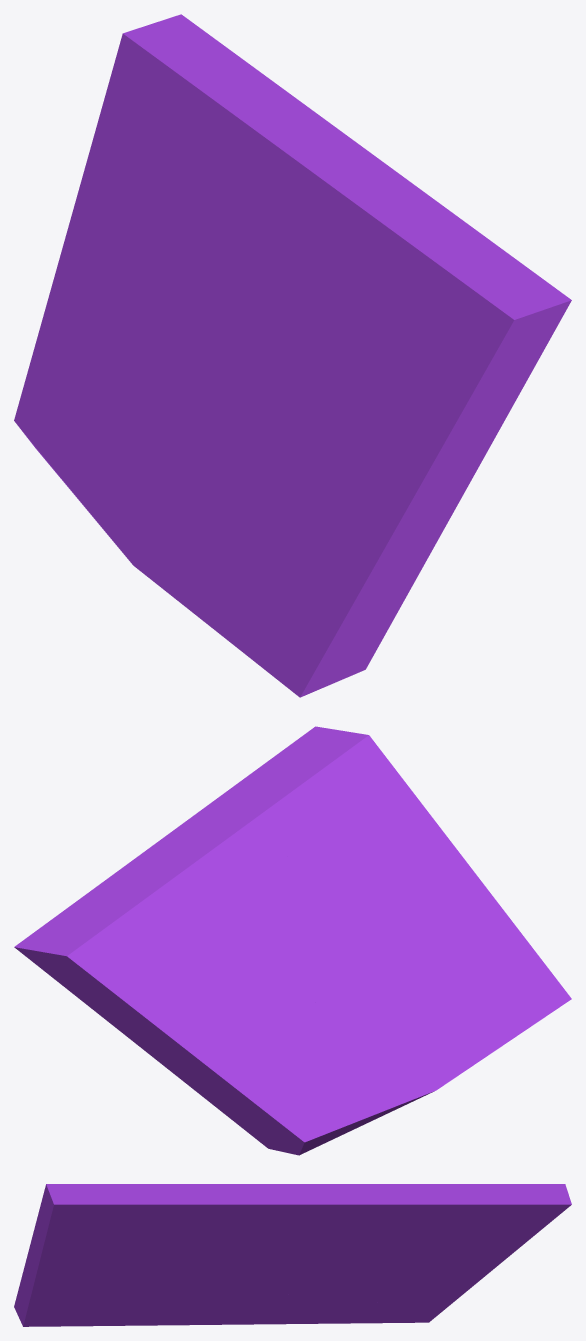
The model's file is Window_115_3_chunks.fbx.
The picture shows the model from 3 angles, top to bottom: view 1: azimuth 30°, elevation 25°; view 2: azimuth 150°, elevation 25°; view 3: azimuth 270°, elevation 25°; orthographic projection. The views are drawn at different scales.
Parts seen in each view (by area): view 1: Window_115_3_1, Window_115_3_9, Window_115_3_8, Window_115_3_2, Window_115_3_6, Window_115_3_5, Window_115_3_7, Window_115_3_3; view 2: Window_115_3_1, Window_115_3_9, Window_115_3_8, Window_115_3_2, Window_115_3_6, Window_115_3_5, Window_115_3_3, Window_115_3_0, Window_115_3_7; view 3: Window_115_3_1, Window_115_3_0, Window_115_3_9, Window_115_3_8, Window_115_3_2, Window_115_3_4, Window_115_3_3.
Part boxes in pixels (x1,y1,x2,y2): Window_115_3_1: [199, 204, 571, 697]; Window_115_3_9: [66, 14, 325, 235]; Window_115_3_8: [212, 120, 440, 376]; Window_115_3_2: [87, 372, 215, 617]; Window_115_3_6: [69, 207, 227, 388]; Window_115_3_5: [14, 310, 152, 453]; Window_115_3_7: [45, 235, 101, 320]; Window_115_3_3: [21, 430, 98, 516]; Window_115_3_1: [214, 726, 571, 1054]; Window_115_3_9: [14, 865, 210, 1053]; Window_115_3_8: [126, 800, 331, 967]; Window_115_3_2: [316, 980, 489, 1114]; Window_115_3_6: [201, 934, 336, 1073]; Window_115_3_5: [232, 1021, 349, 1145]; Window_115_3_3: [246, 1087, 384, 1155]; Window_115_3_0: [92, 1009, 238, 1124]; Window_115_3_7: [166, 1027, 250, 1089]; Window_115_3_1: [14, 1184, 267, 1326]; Window_115_3_0: [265, 1240, 527, 1308]; Window_115_3_9: [376, 1184, 571, 1245]; Window_115_3_8: [218, 1184, 389, 1250]; Window_115_3_2: [200, 1292, 323, 1324]; Window_115_3_4: [289, 1294, 427, 1315]; Window_115_3_3: [312, 1310, 440, 1323].
Bounding box in the file's own units: 418 × 399 × 1008.
